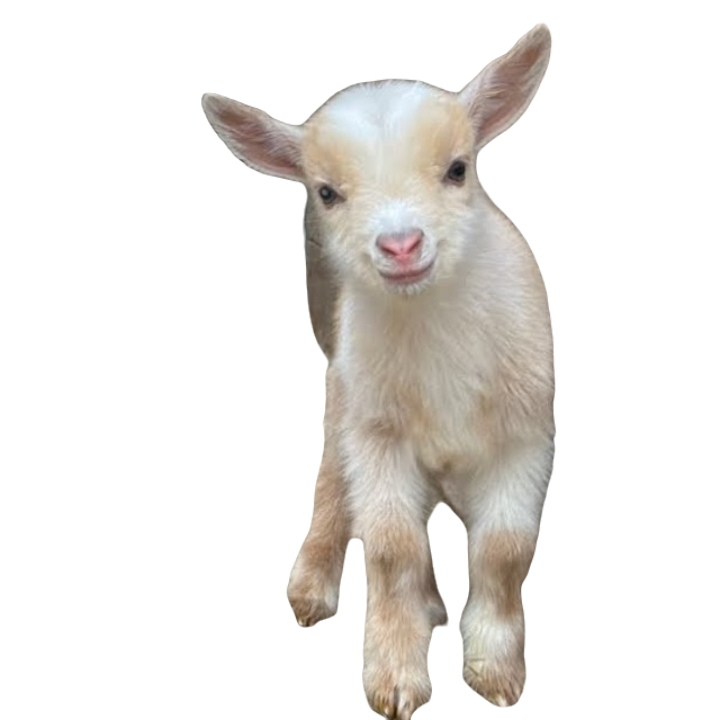Goat: (202, 20, 559, 719)
